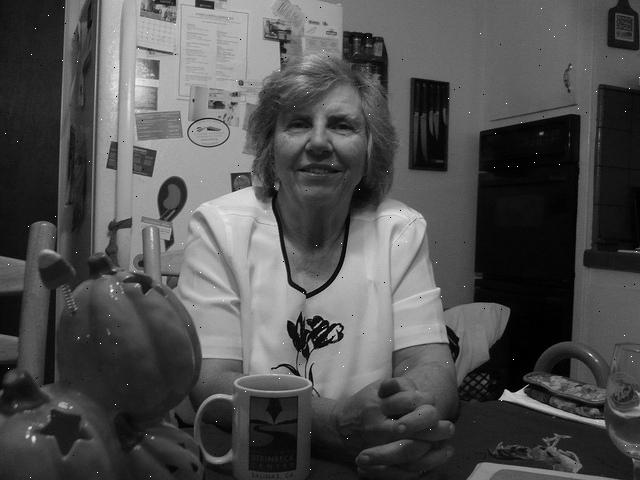cup: (197, 350, 326, 480), (584, 319, 640, 480)
